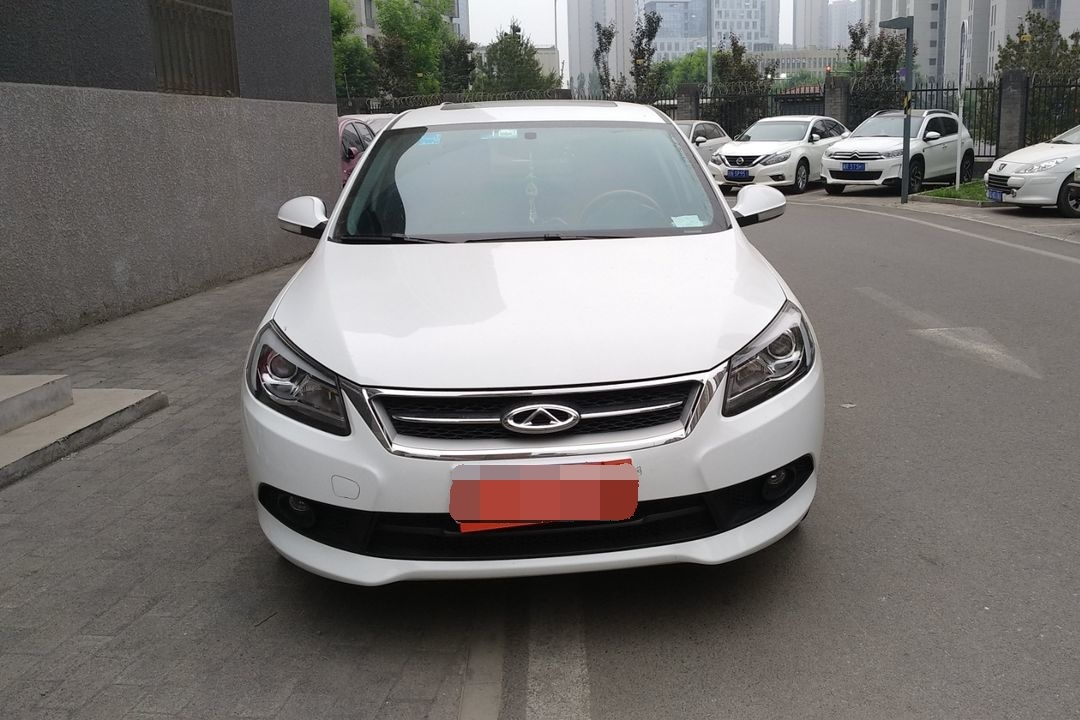family sedan: (241, 86, 837, 615)
